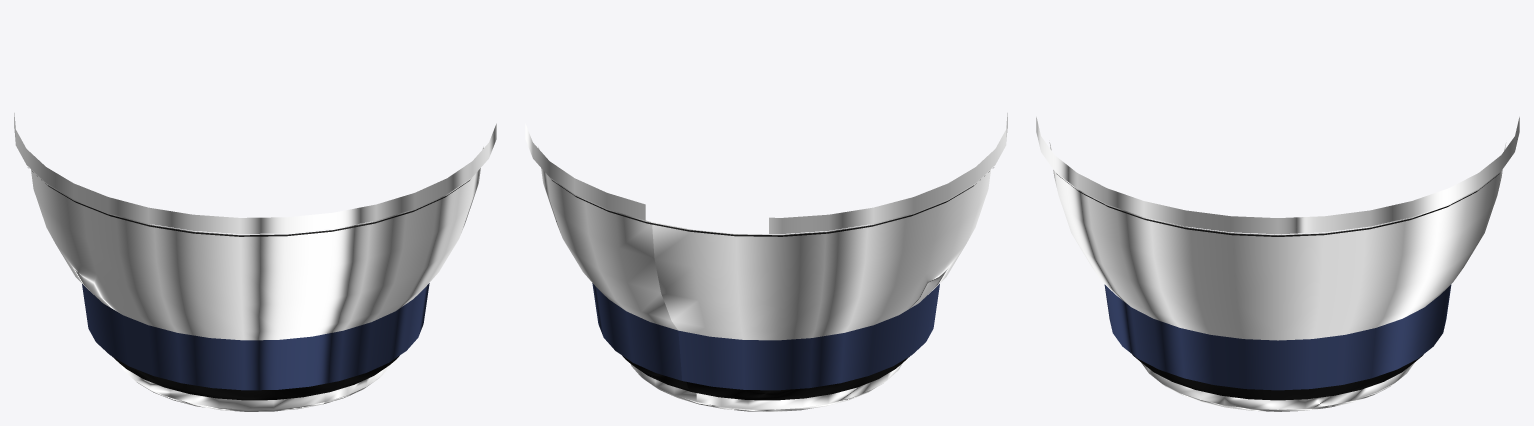
The model's file is bottle_64x64x160_d.glb.
The picture shows the model from 3 angles, left to right: view 1: azimuth 30°, elevation 25°; view 2: azimuth 150°, elevation 25°; view 3: azimuth 270°, elevation 25°; orthographic projection.
Bounding box in the file's own units: 54.21 × 29.56 × 54.23.
